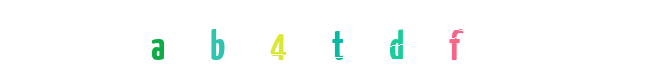4: (238, 0, 318, 80)
A: (118, 0, 198, 80)
B: (230, 0, 310, 80)
D: (290, 0, 370, 80)
F: (415, 0, 495, 80)
T: (271, 0, 351, 80)
